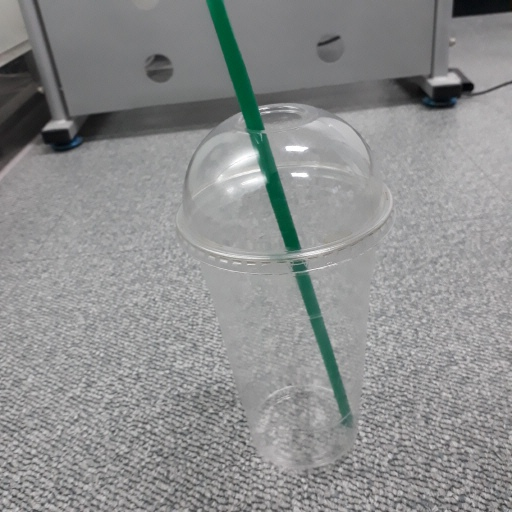Plastic_2: (176, 1, 396, 472)
